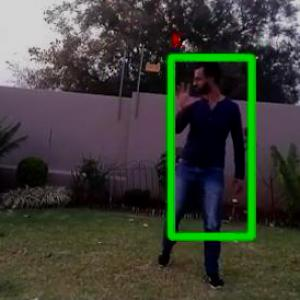follow_hand: (171, 77, 200, 115)
